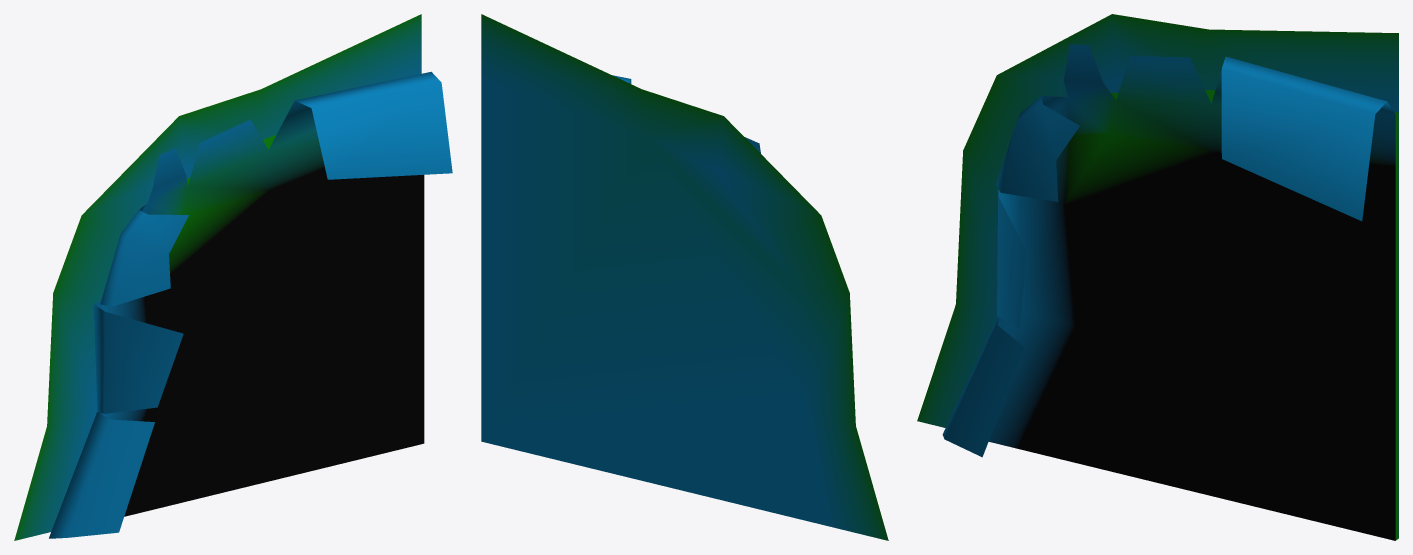
File: DBK_Drywall_End_B_Single_Mirror.fbx
3 renders of one model, left to right at view 1: azimuth 30°, elevation 25°; view 2: azimuth 150°, elevation 25°; view 3: azimuth 330°, elevation 25°, orthographic. The views are drawn at different scales.
Visible parts, largest first — view 1: DBK_Drywall_End_B_Single_Mirror; view 2: DBK_Drywall_End_B_Single_Mirror; view 3: DBK_Drywall_End_B_Single_Mirror.
Part boxes in pixels (x1,y1,x2,y2): DBK_Drywall_End_B_Single_Mirror: [14, 14, 452, 540]; DBK_Drywall_End_B_Single_Mirror: [481, 14, 888, 540]; DBK_Drywall_End_B_Single_Mirror: [917, 14, 1398, 540].
Size of what is drawn, in the model's own units: 163 by 164 by 26.74.
